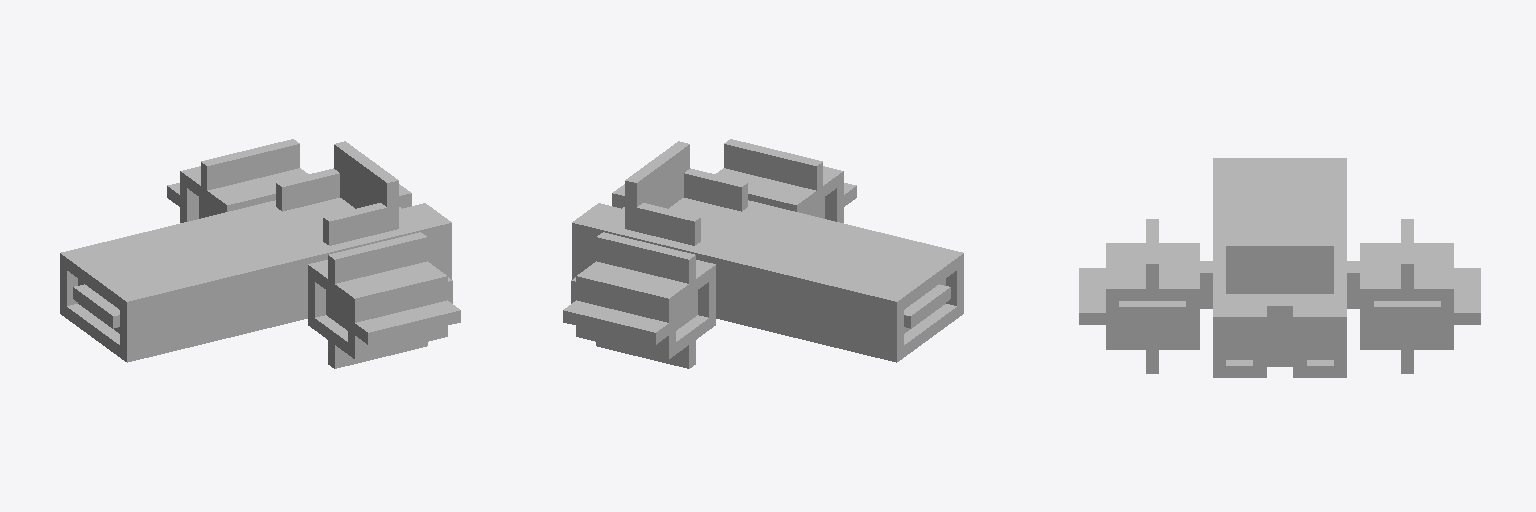
The model's file is spaceship.obj.
3 renders of one model, left to right at view 1: azimuth 30°, elevation 25°; view 2: azimuth 150°, elevation 25°; view 3: azimuth 270°, elevation 25°, orthographic.
Bounding box in the file's own units: 28 × 11 × 30.